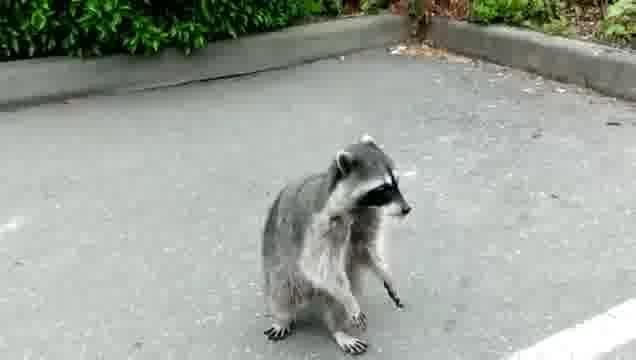raccoon: (260, 132, 414, 357)
